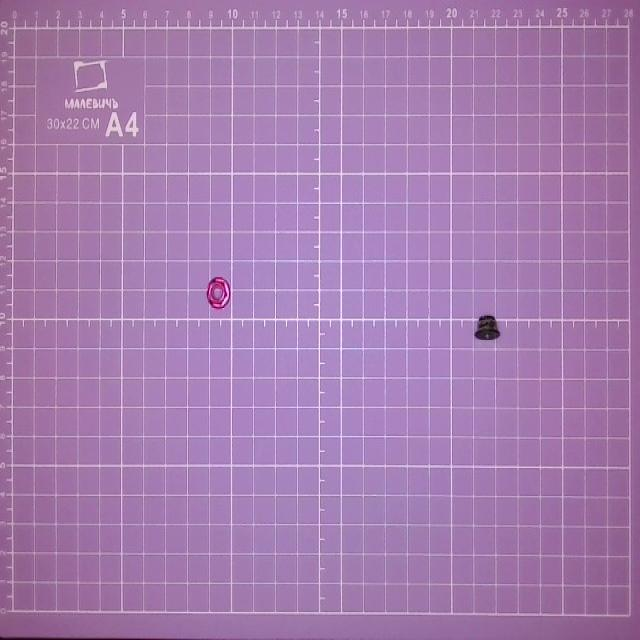screw_M5: (206, 273, 230, 314), (474, 311, 504, 343)
